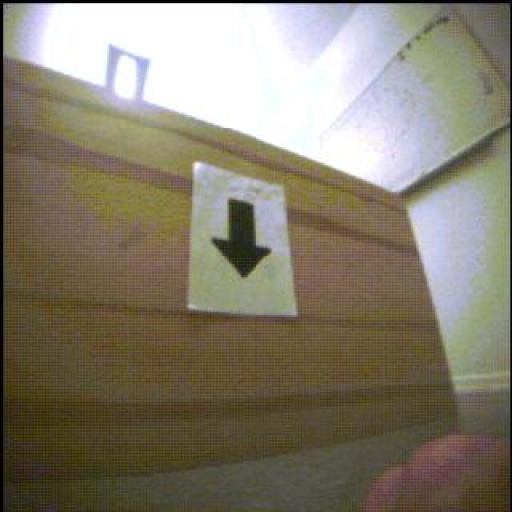Arrow: (213, 199, 272, 278)
